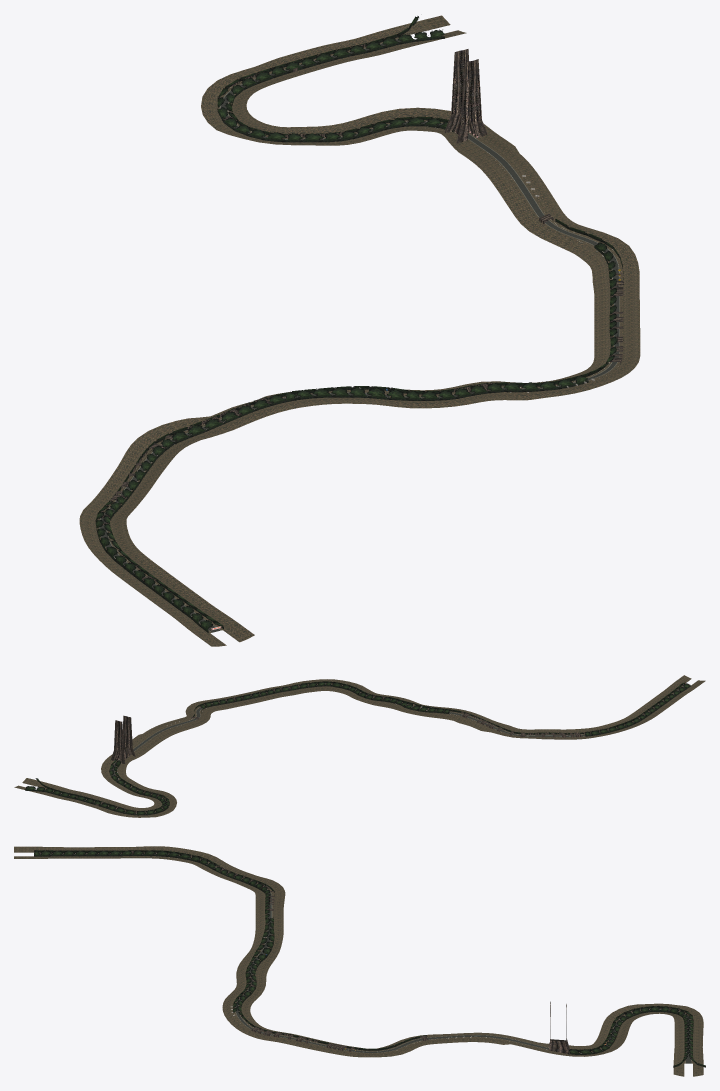
File: stage-sequ-env.glb
3 renders of one model, top to bottom at view 1: azimuth 30°, elevation 25°; view 2: azimuth 150°, elevation 25°; view 3: azimuth 270°, elevation 25°, orthographic. The views are drawn at different scales.
Parts seen in each view (by area): view 1: env part 1, env part 2, env part 0; view 2: env part 1, env part 2, env part 0; view 3: env part 1, env part 2, env part 0.
Part boxes in pixels (x1,y1,x2,y2): env part 1: (79,15,640,646); env part 2: (95,16,623,632); env part 0: (97,37,622,633); env part 1: (14,675,705,817); env part 2: (25,681,690,815); env part 0: (44,683,685,814); env part 1: (14,846,703,1076); env part 2: (34,850,705,1067); env part 0: (34,852,692,1063).
Size of the model in its own units: 2306 by 271 by 2863.
Materials: 15 (14 with a texture image).
